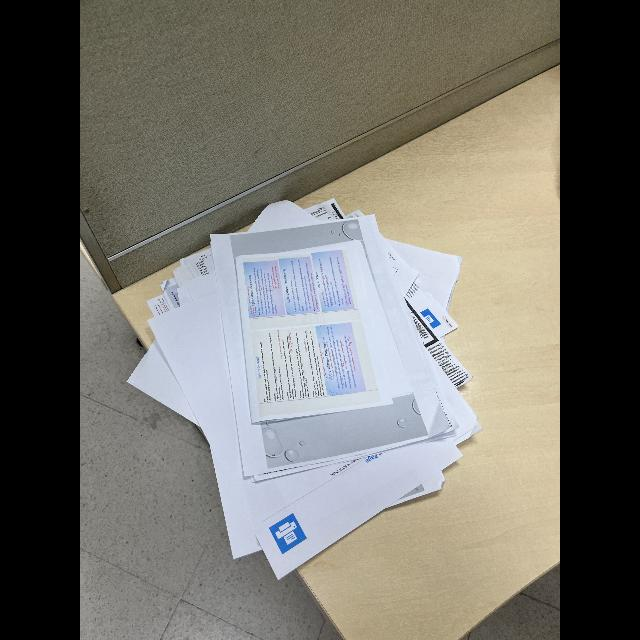reuseable_paper: (130, 190, 484, 582)
